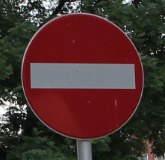no_entry: (21, 12, 144, 139)
